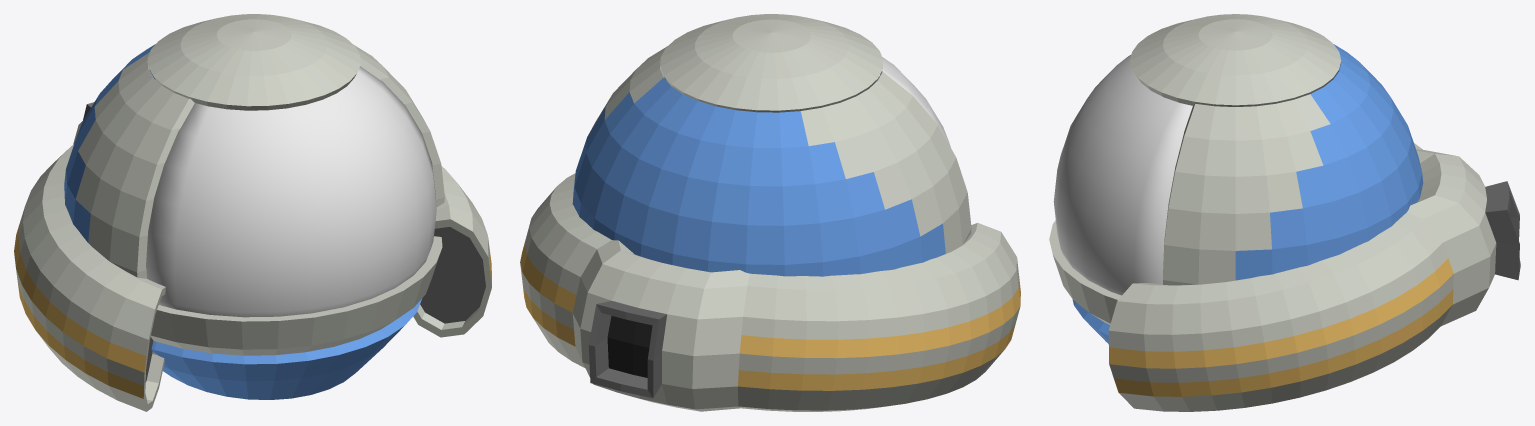
File: Submarine.fbx
The picture shows the model from 3 angles, left to right: view 1: azimuth 30°, elevation 25°; view 2: azimuth 150°, elevation 25°; view 3: azimuth 270°, elevation 25°; orthographic projection. The views are drawn at different scales.
Visible parts, largest first — view 1: Sphere.001, Sphere, Torus; view 2: Sphere, Torus, Sphere.001; view 3: Sphere, Torus, Sphere.001.
Boxes of the visible parts, x1,y1,x2,y2 form: Sphere.001: [146, 66, 436, 317]; Sphere: [64, 14, 444, 399]; Torus: [14, 102, 491, 411]; Sphere: [572, 14, 971, 276]; Torus: [520, 173, 1020, 411]; Sphere.001: [875, 57, 950, 147]; Sphere: [1049, 14, 1423, 343]; Torus: [1108, 143, 1520, 411]; Sphere.001: [1053, 55, 1192, 295].
Size of the model in its own units: 250 by 185 by 248.
